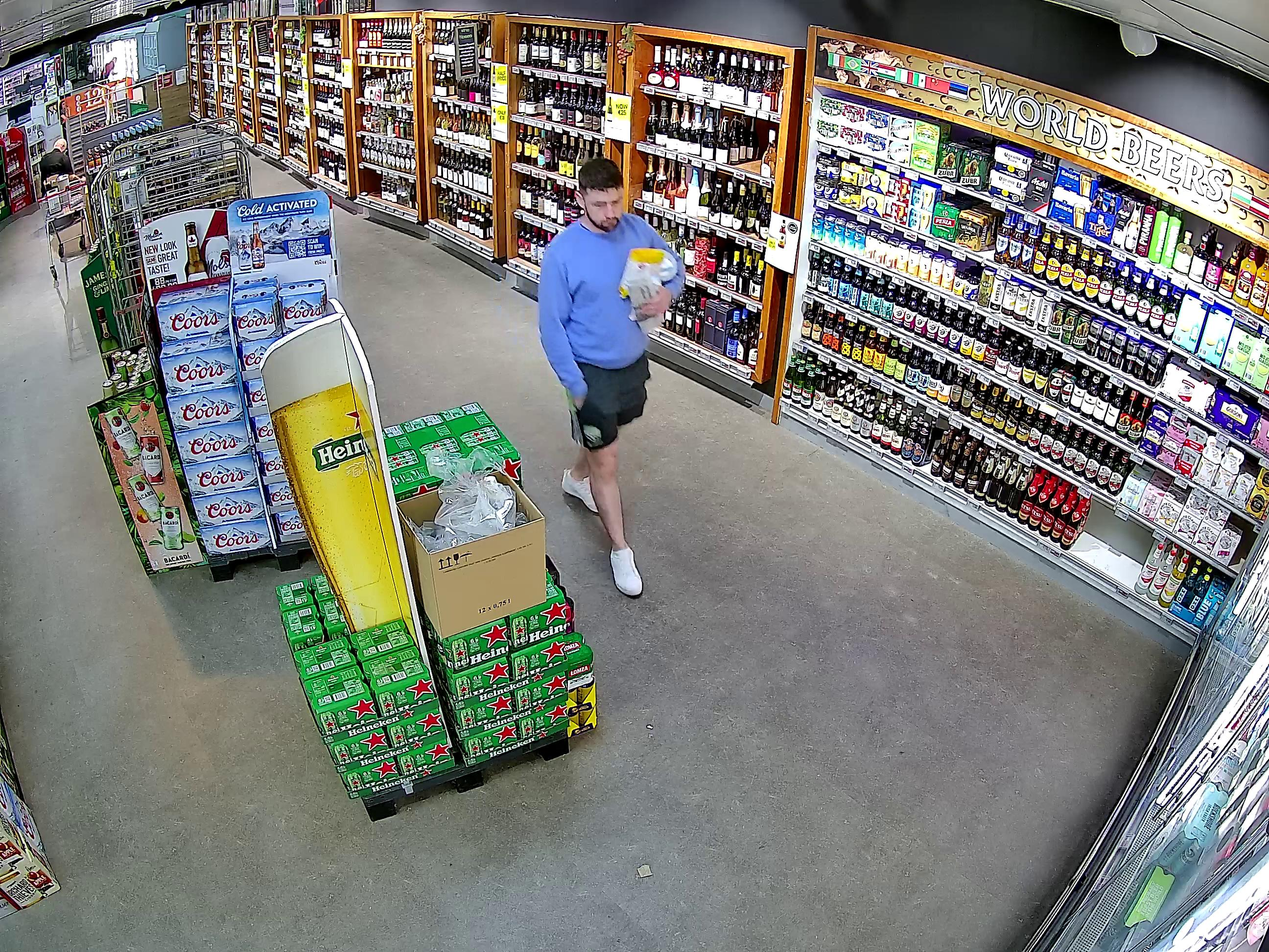carrying-item: (618, 245, 676, 333)
person: (540, 158, 685, 600)
person-with-carrying-item: (540, 158, 685, 599)
